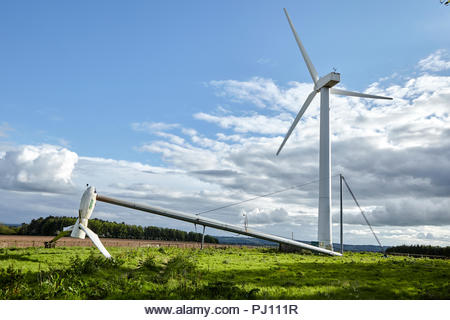faulty: (39, 182, 214, 255)
working: (270, 3, 388, 172)
